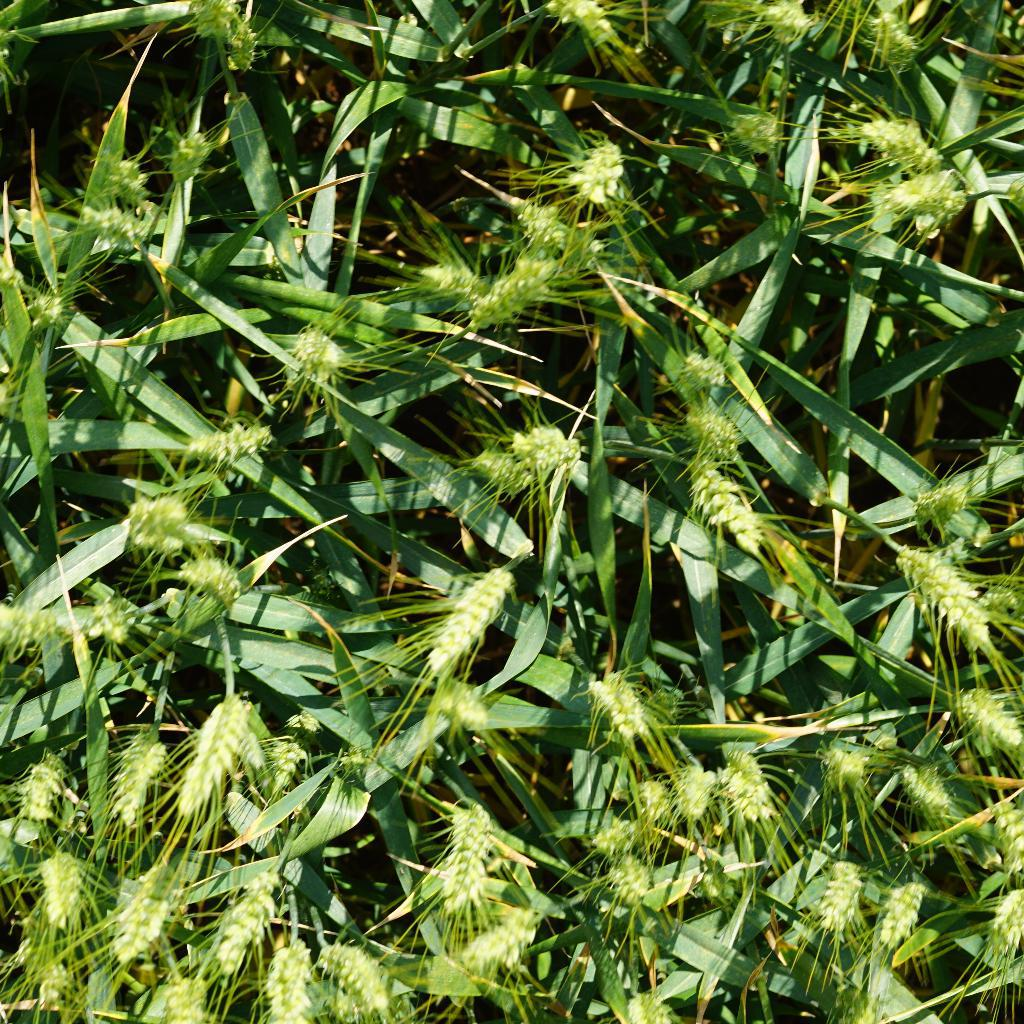0-0: (403, 548, 534, 687), (889, 523, 1009, 656), (676, 447, 773, 556), (176, 683, 253, 818), (215, 858, 298, 976), (434, 795, 508, 914), (101, 712, 168, 837), (436, 904, 545, 979), (116, 858, 185, 972), (935, 675, 1024, 759), (876, 159, 982, 228), (470, 260, 565, 332), (841, 103, 934, 176), (271, 675, 326, 798), (318, 936, 405, 1012), (901, 751, 974, 841), (29, 840, 94, 938), (589, 661, 665, 743), (519, 197, 609, 264), (560, 120, 630, 206), (811, 854, 875, 948), (503, 410, 588, 479), (901, 459, 976, 537), (871, 864, 937, 952), (171, 407, 272, 463), (260, 927, 318, 1024), (716, 98, 802, 156), (276, 318, 350, 385), (18, 740, 77, 822), (459, 438, 535, 499), (119, 492, 200, 549), (403, 254, 486, 309), (676, 395, 750, 456), (172, 546, 254, 601), (818, 732, 879, 804), (154, 119, 217, 182), (863, 7, 927, 68), (431, 681, 500, 737), (538, 0, 616, 49), (729, 755, 785, 823), (0, 591, 55, 660), (161, 961, 221, 1024), (83, 200, 160, 249), (746, 0, 827, 46), (85, 594, 150, 651), (832, 975, 902, 1024), (671, 758, 720, 828), (600, 852, 660, 909), (586, 807, 647, 862), (672, 337, 728, 396), (33, 953, 84, 1017), (615, 977, 683, 1024), (982, 878, 1024, 951), (631, 777, 680, 838), (218, 11, 261, 80), (987, 796, 1024, 871), (23, 288, 70, 342), (183, 0, 246, 40), (696, 858, 738, 913), (94, 156, 150, 195), (330, 737, 373, 783), (549, 0, 602, 12), (0, 1009, 10, 1024)
